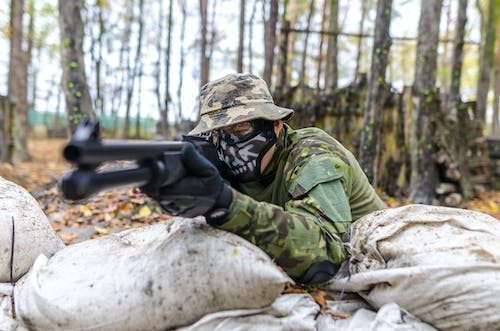gun: (59, 116, 219, 201)
